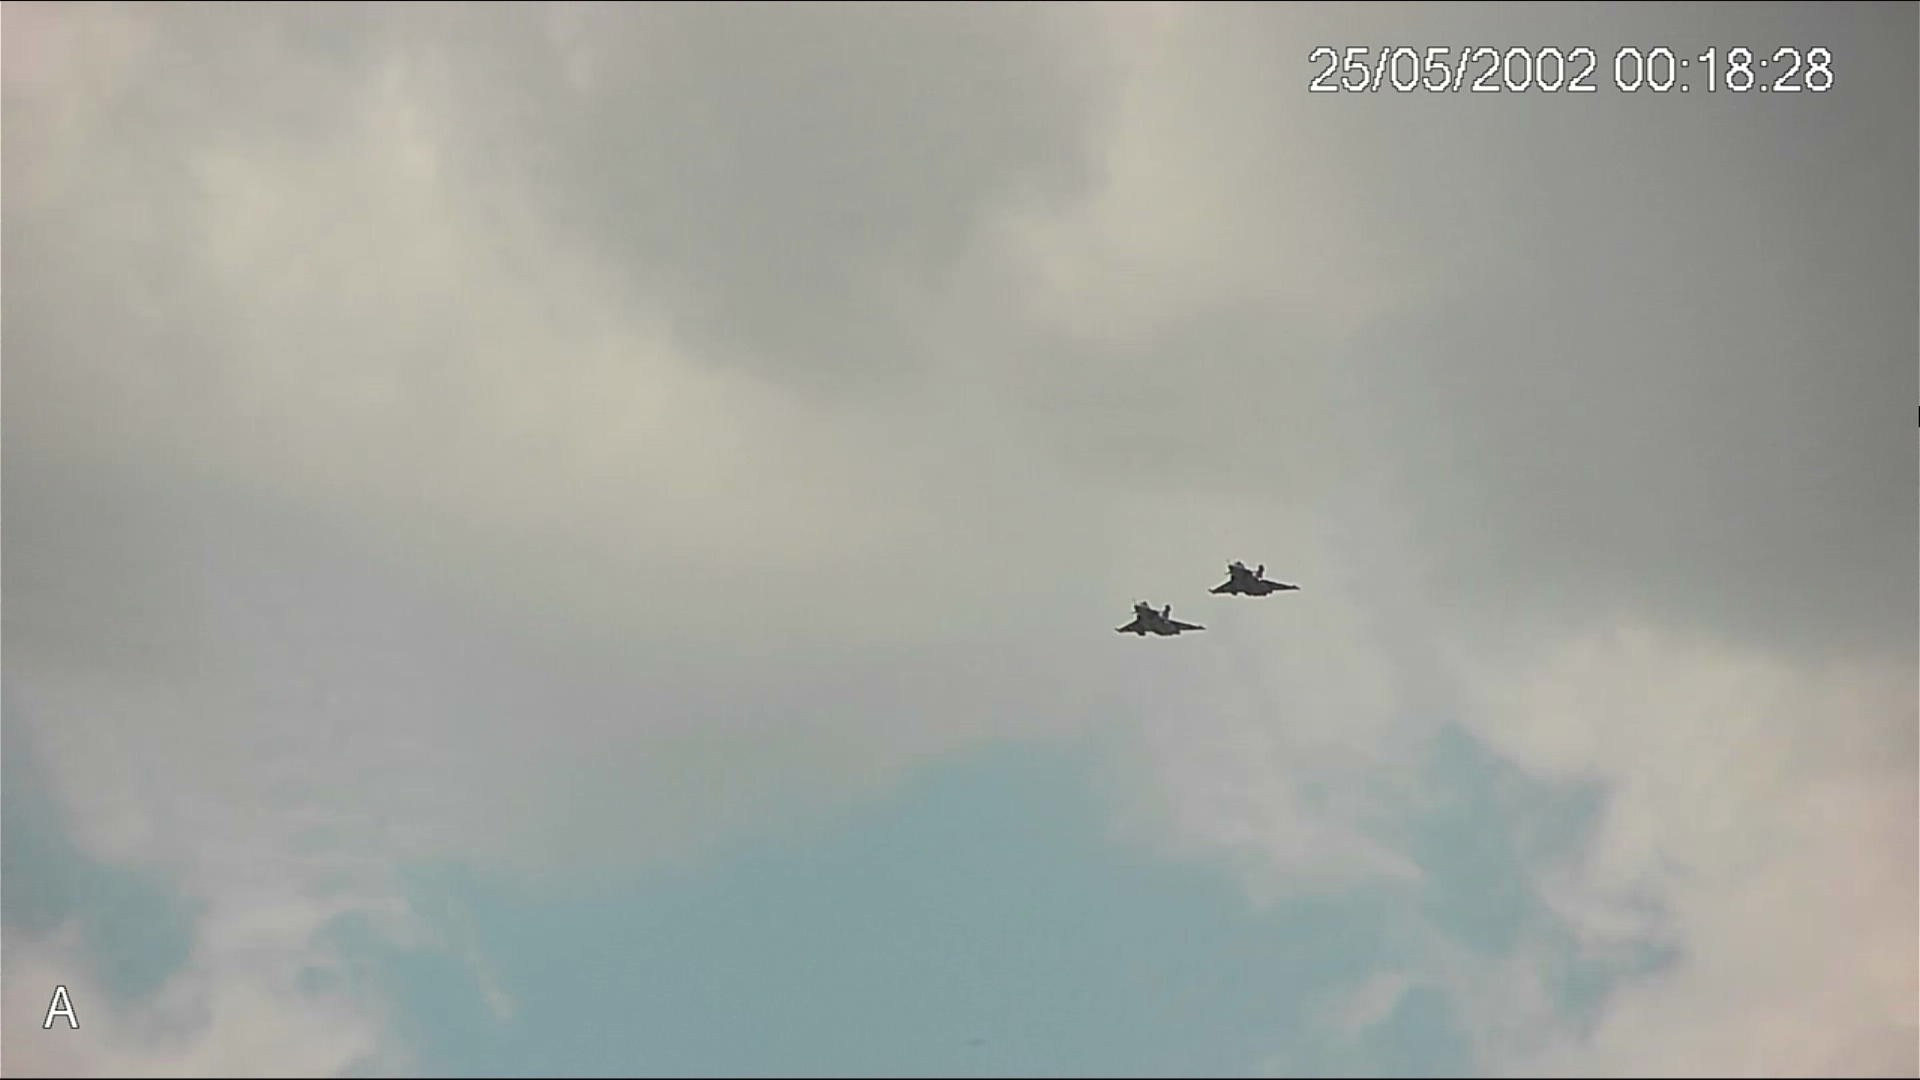SU_30: (1204, 556, 1302, 608), (1116, 603, 1207, 640)
